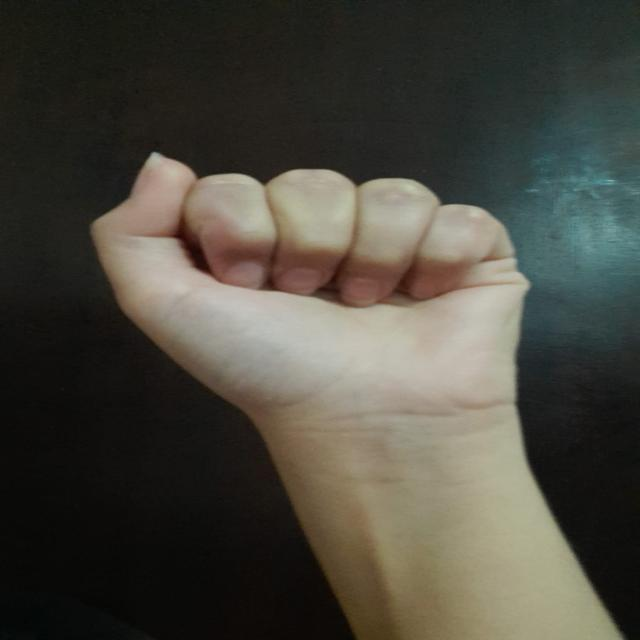A: (71, 146, 559, 420)
